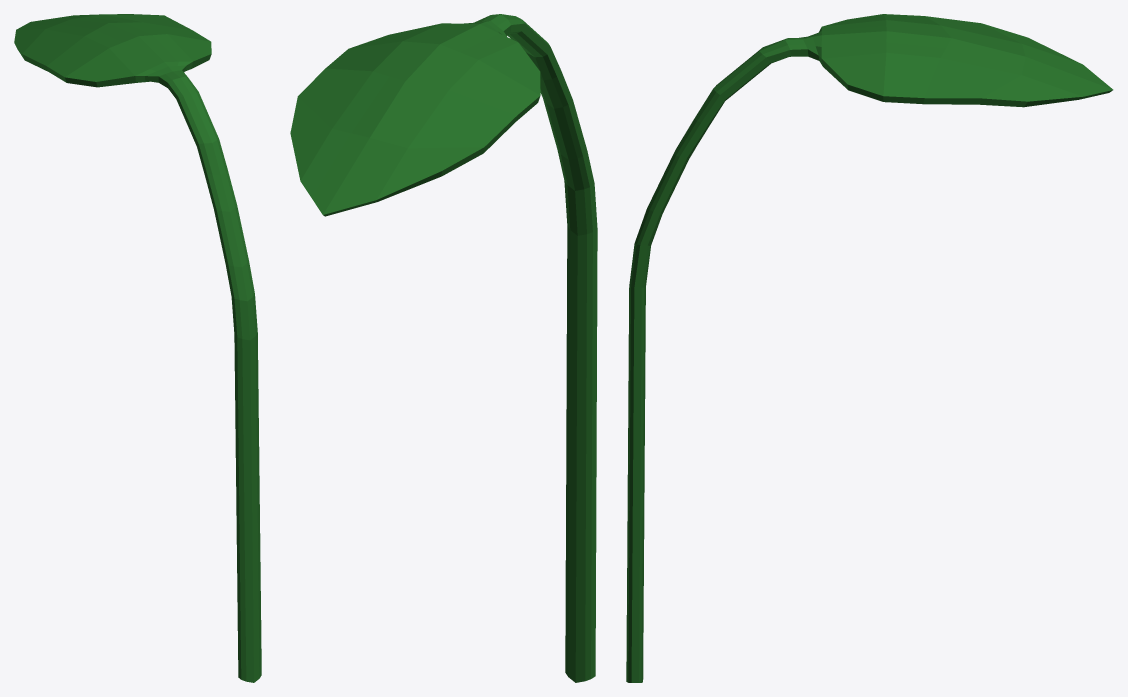
The model's file is hojaplanta.fbx.
3 renders of one model, left to right at view 1: azimuth 30°, elevation 25°; view 2: azimuth 150°, elevation 25°; view 3: azimuth 270°, elevation 25°, orthographic. The views are drawn at different scales.
Visible parts, largest first — view 1: Plane.020; view 2: Plane.020; view 3: Plane.020.
Boxes of the visible parts, x1,y1,x2,y2 form: Plane.020: (14,14,261,682); Plane.020: (290,14,597,682); Plane.020: (626,14,1113,682).
Size of the model in its own units: 939 by 3455 by 2349.
